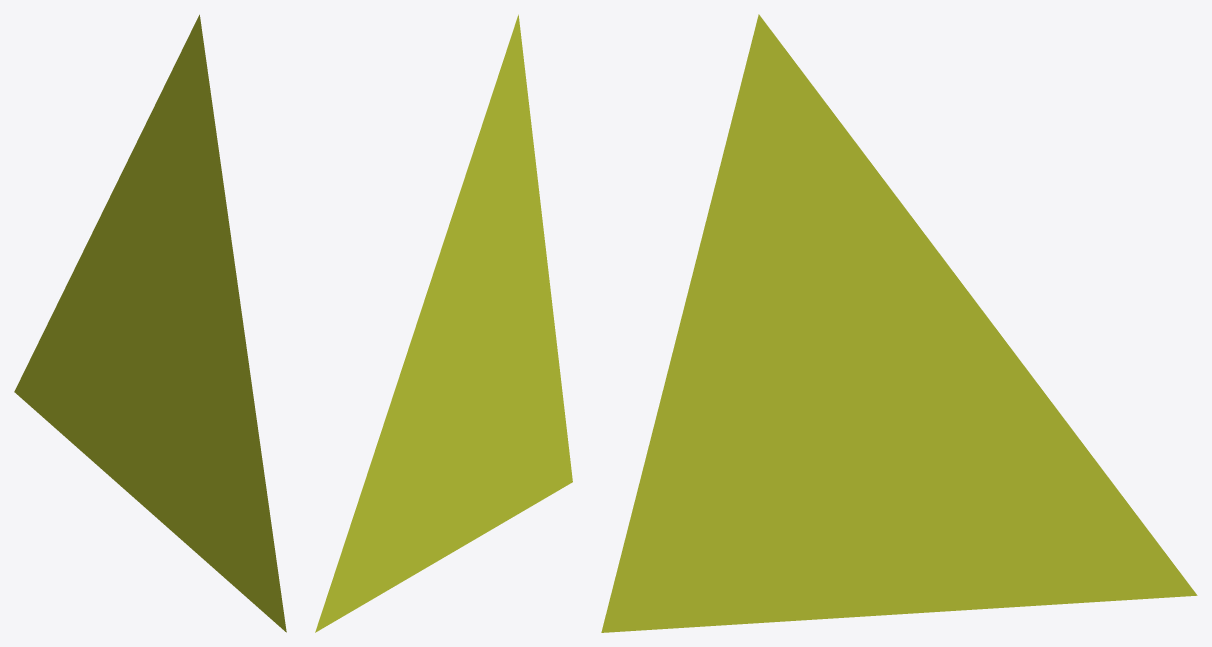
Rendered from b_polySurface615_b_BMW_i8Elite_2017CalliperGloss_Material1_0.glb.
3 views of the same model, side by side, from view 1: azimuth 30°, elevation 25°; view 2: azimuth 150°, elevation 25°; view 3: azimuth 270°, elevation 25° (orthographic). The views are drawn at different scales.
Visible parts, largest first — view 1: b:polySurface615_b:BMW_i8Elite_2017CalliperGloss_Material1_0; view 2: b:polySurface615_b:BMW_i8Elite_2017CalliperGloss_Material1_0; view 3: b:polySurface615_b:BMW_i8Elite_2017CalliperGloss_Material1_0.
Boxes of the visible parts, <box> form: b:polySurface615_b:BMW_i8Elite_2017CalliperGloss_Material1_0: <box>14,14,286,632</box>; b:polySurface615_b:BMW_i8Elite_2017CalliperGloss_Material1_0: <box>315,14,572,632</box>; b:polySurface615_b:BMW_i8Elite_2017CalliperGloss_Material1_0: <box>601,14,1197,632</box>.
Bounding box in the file's own units: 0.00167 × 0.0489 × 0.0432.
